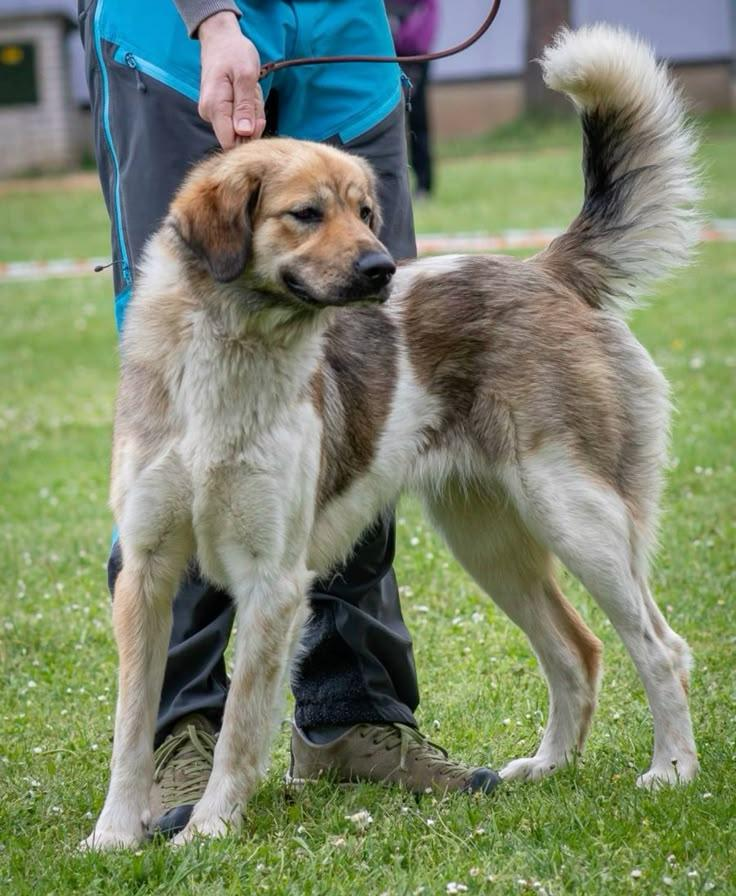dog: (85, 26, 696, 847)
